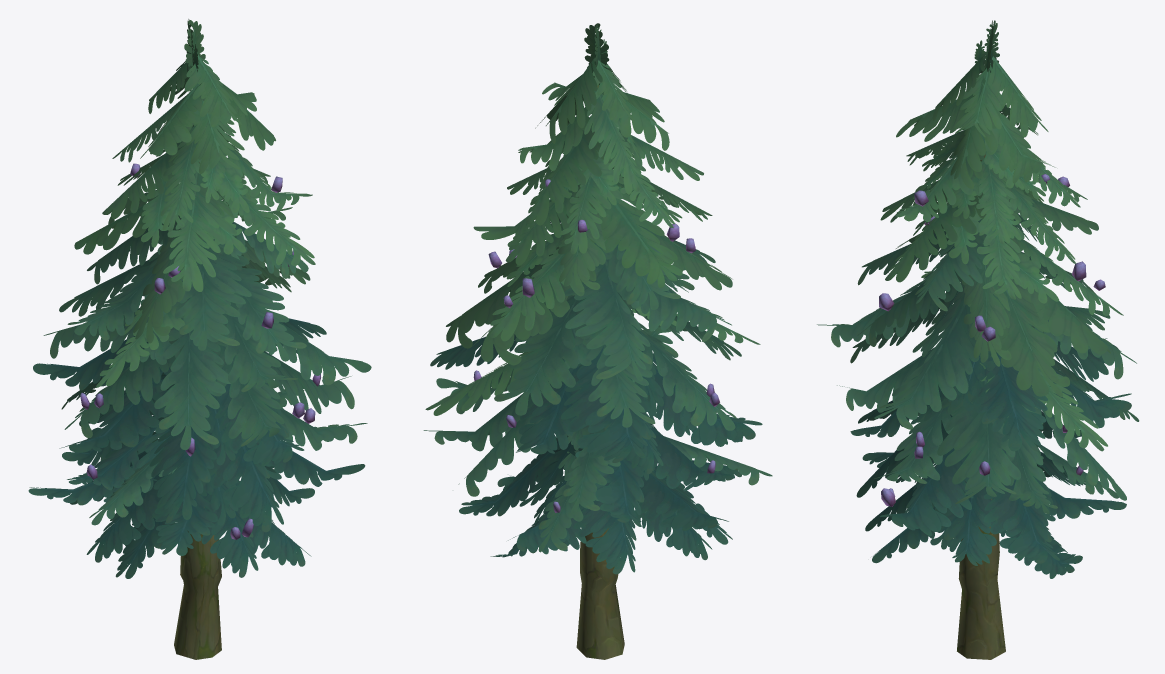
File: m_env_collect_tree_cedar_03_lod2.FBX
The picture shows the model from 3 angles, left to right: view 1: azimuth 30°, elevation 25°; view 2: azimuth 150°, elevation 25°; view 3: azimuth 270°, elevation 25°; orthographic projection.
Visible parts, largest first — view 1: m_env_collect_tree_cedar_03_lod2; view 2: m_env_collect_tree_cedar_03_lod2; view 3: m_env_collect_tree_cedar_03_lod2.
Boxes of the visible parts, left/top/right/bottom form: m_env_collect_tree_cedar_03_lod2: left=28, top=19, right=371, bottom=659; m_env_collect_tree_cedar_03_lod2: left=423, top=23, right=772, bottom=659; m_env_collect_tree_cedar_03_lod2: left=817, top=20, right=1139, bottom=659.
Size of the model in its own units: 423 by 774 by 374.
